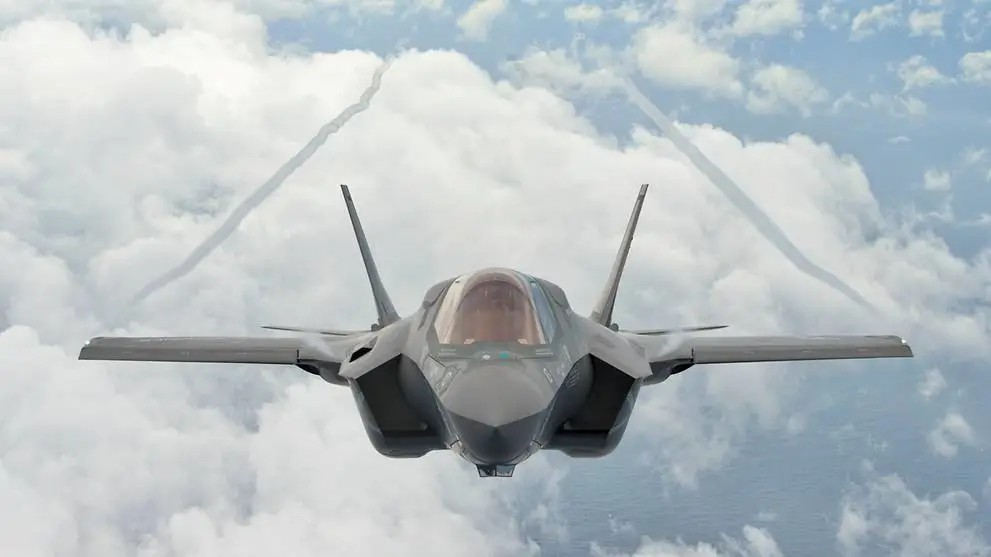F-35 Lightning: (64, 172, 927, 504)
